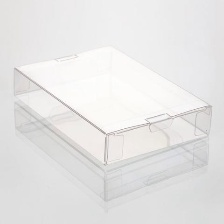plastic_box: (7, 39, 218, 173)
